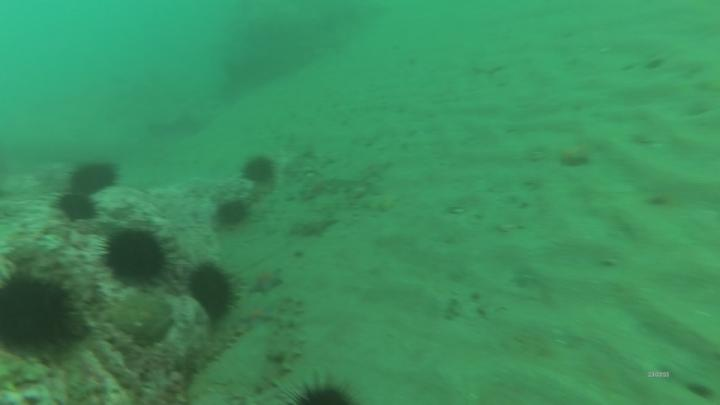echinus: (1, 280, 67, 352), (107, 234, 163, 279), (189, 267, 233, 316), (68, 168, 114, 193), (55, 195, 98, 221), (243, 159, 273, 182), (217, 201, 244, 226)
holothurian: (274, 300, 305, 379), (189, 329, 245, 372)
starfish: (252, 270, 283, 295), (242, 301, 271, 327), (306, 215, 339, 237)
